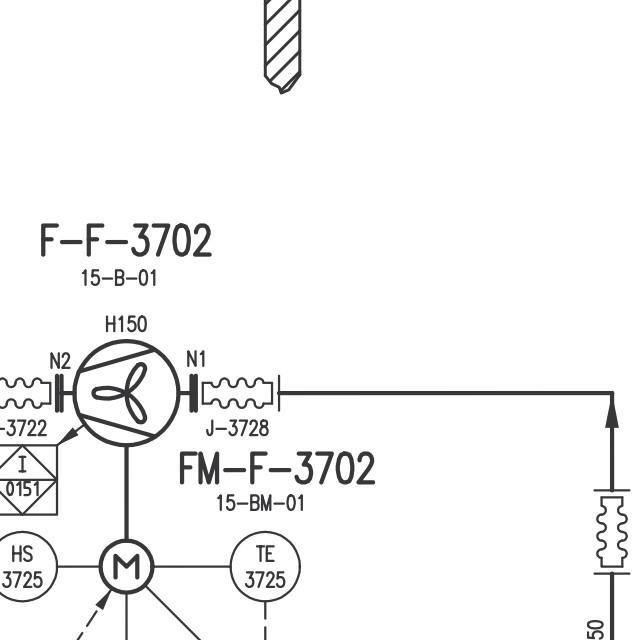EJ: (587, 479, 638, 579), (193, 370, 285, 417), (0, 362, 58, 415)
F: (70, 336, 180, 450)
M: (93, 536, 156, 596)
